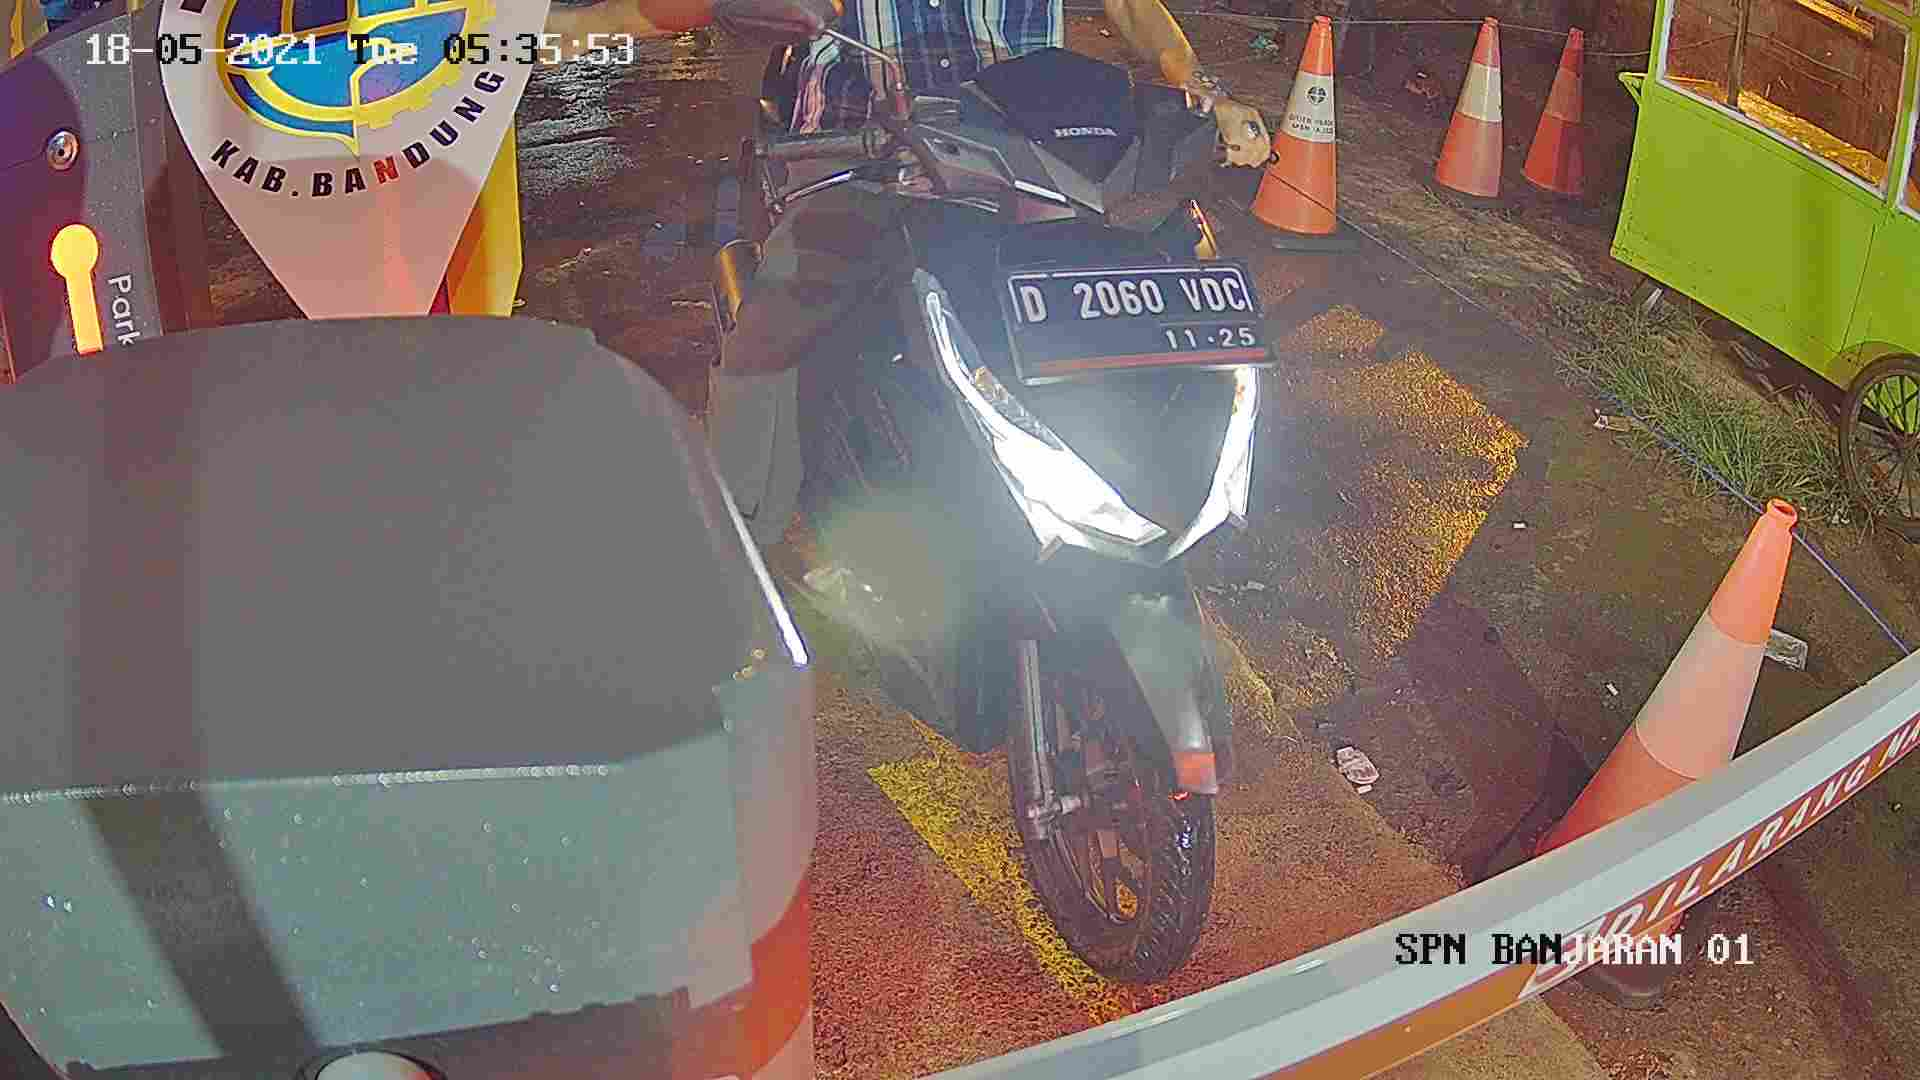motor: (699, 80, 1464, 1001)
